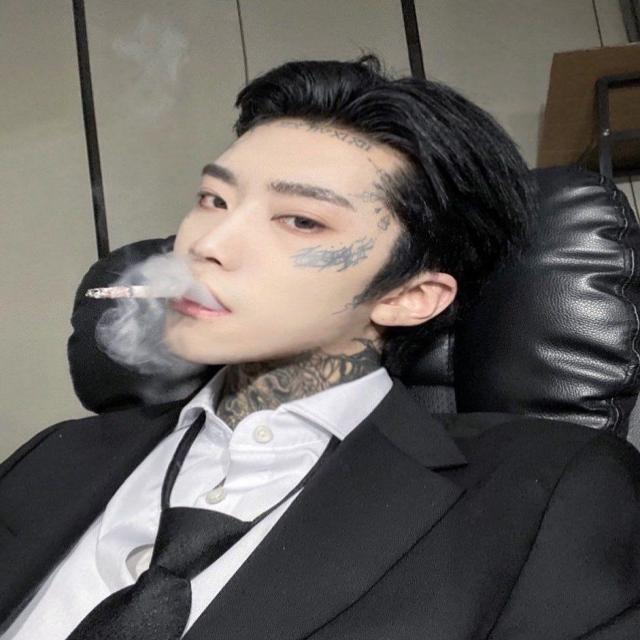cigarette: (62, 255, 194, 327)
